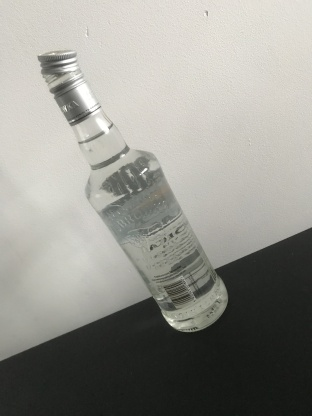nakretka: (35, 46, 102, 127)
